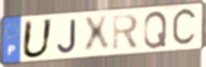C: (171, 6, 199, 50)
J: (56, 18, 78, 55)
Q: (142, 10, 169, 51)
R: (112, 12, 141, 53)
U: (20, 17, 55, 60)
X: (81, 14, 111, 55)
